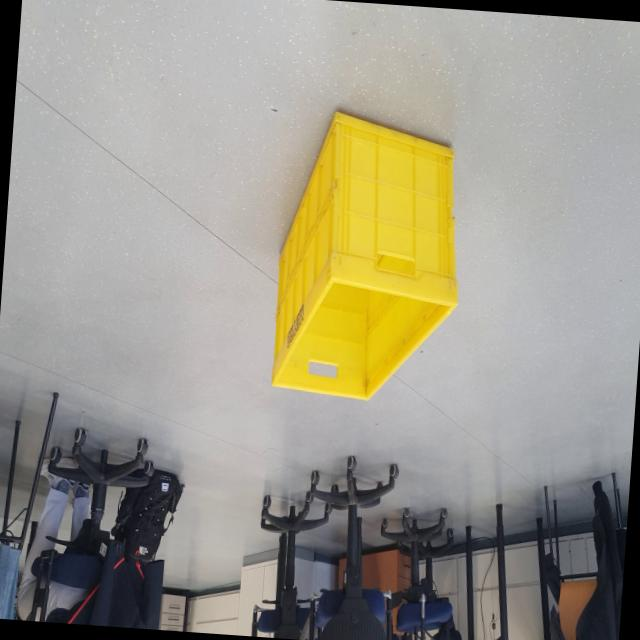box: (265, 88, 478, 412)
